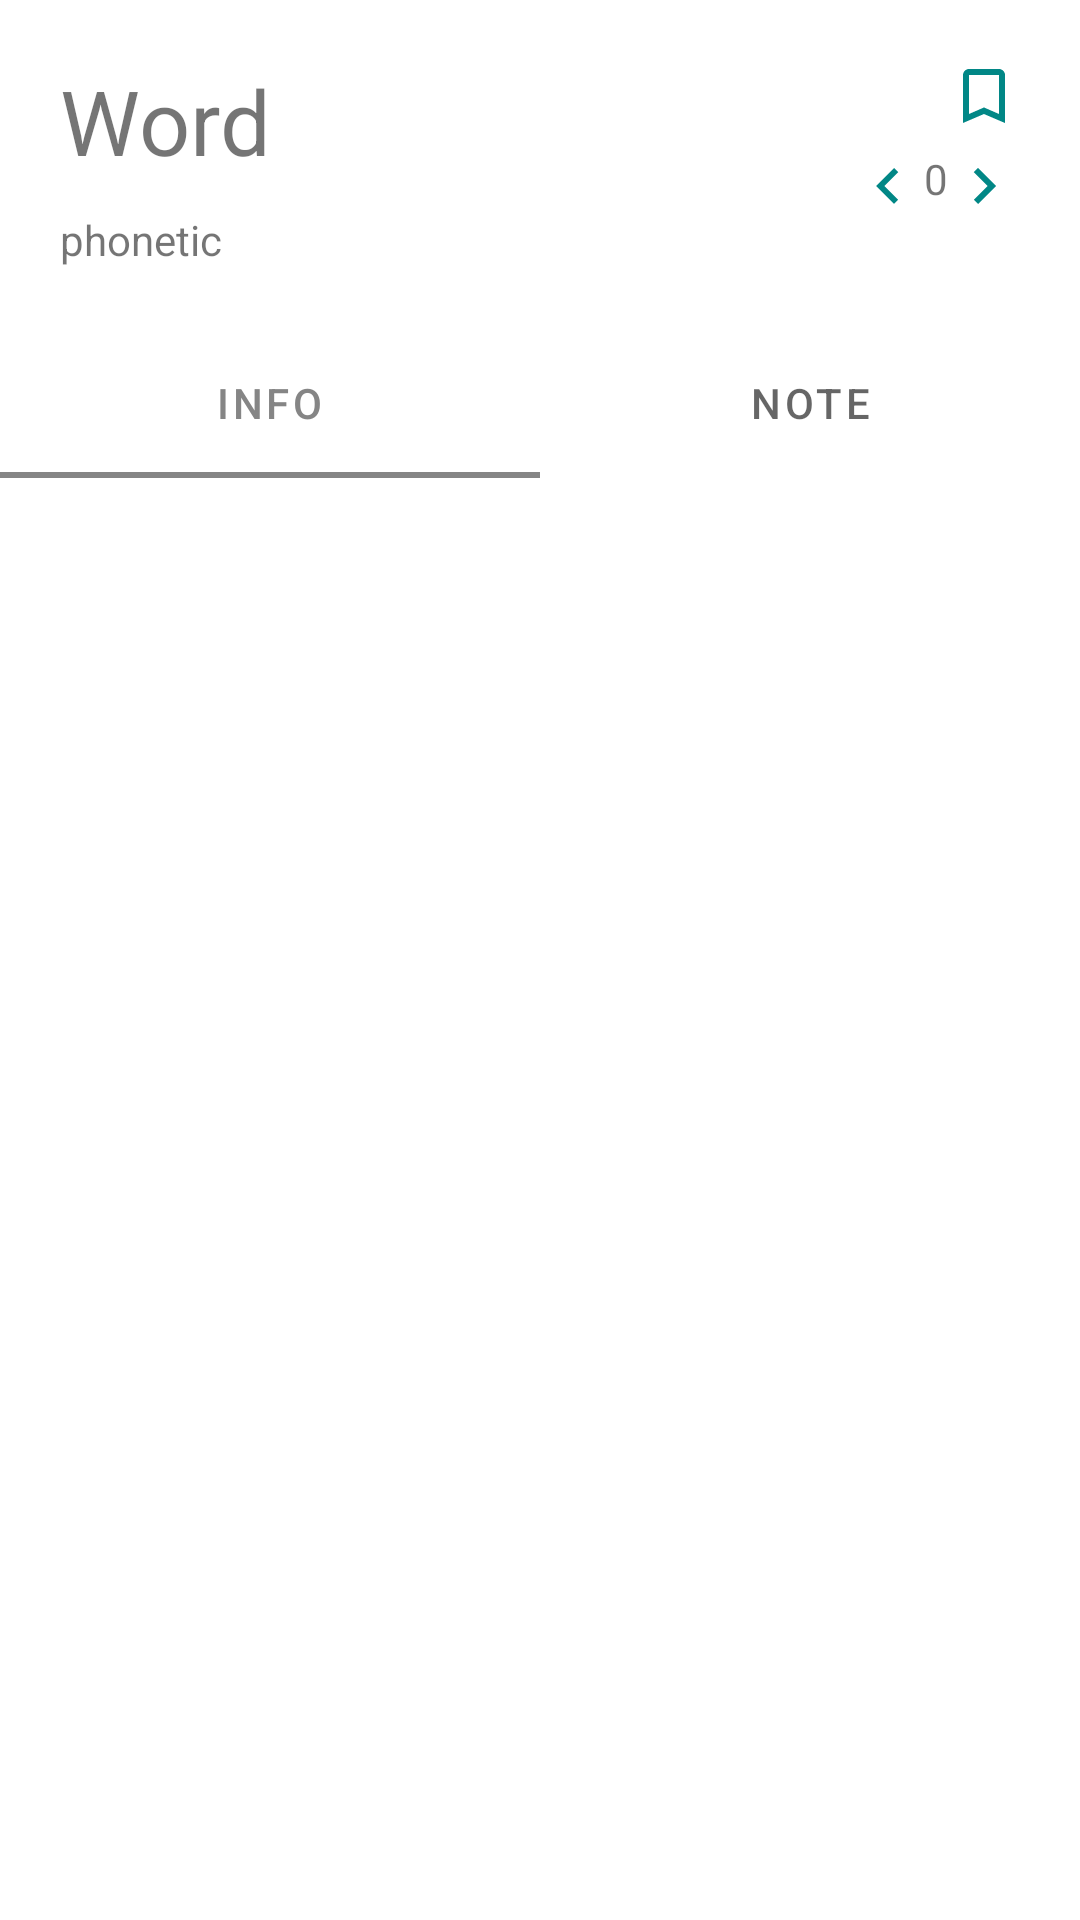

Point at icon controls on the screen. Image size 1080 × 1920, points as [x,y].
bookmark border: [984,96]
keyboard arrow left: [887,186]
keyboard arrow right: [985,186]
